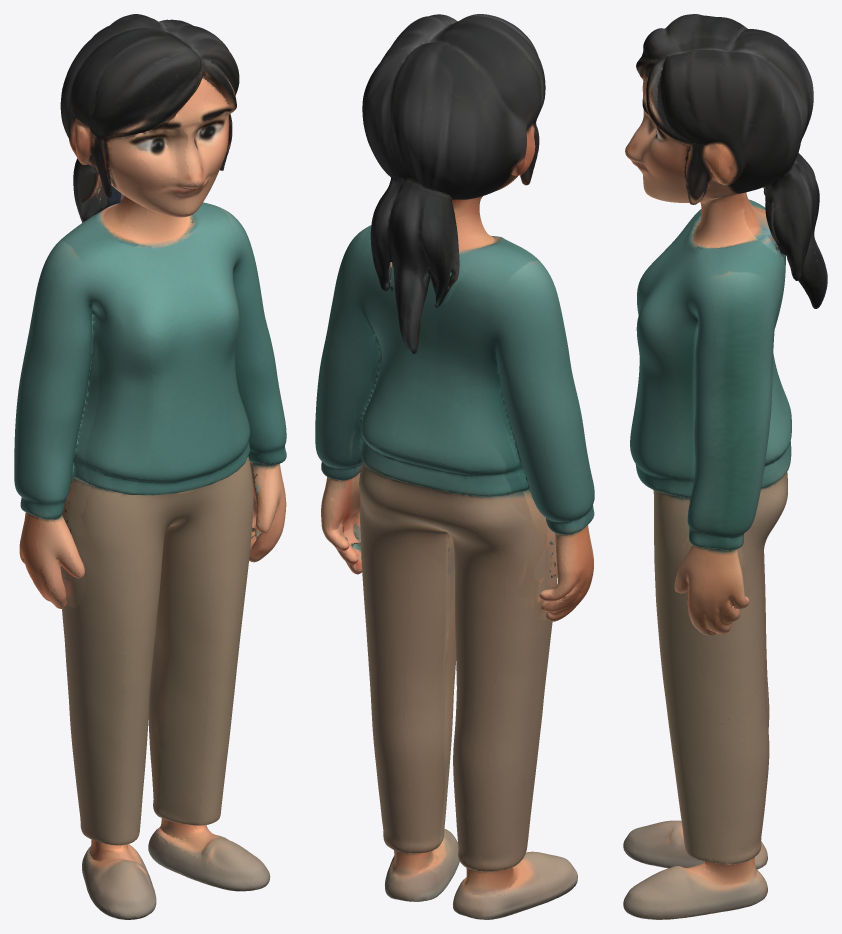
The model's file is cousin.glb.
3 views of the same model, side by side, from view 1: azimuth 30°, elevation 25°; view 2: azimuth 150°, elevation 25°; view 3: azimuth 270°, elevation 25° (orthographic). The views are drawn at different scales.
Parts seen in each view (by area): view 1: geometry_0; view 2: geometry_0; view 3: geometry_0.
Boxes of the visible parts, x1=… form: geometry_0: x1=14, y1=14, x2=286, y2=919; geometry_0: x1=315, y1=14, x2=594, y2=919; geometry_0: x1=623, y1=14, x2=827, y2=919.
Size of the model in its own units: 0.5342 by 1.65 by 0.3579.
Materials: 1 (1 with a texture image).
